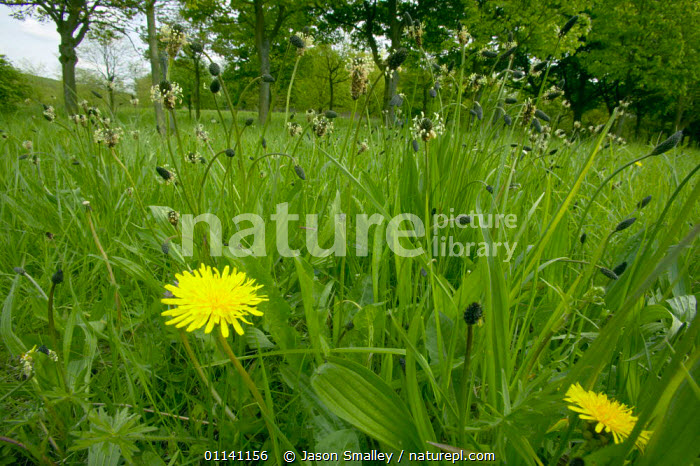buckhorn plantain: (329, 28, 575, 435), (39, 54, 308, 213)
